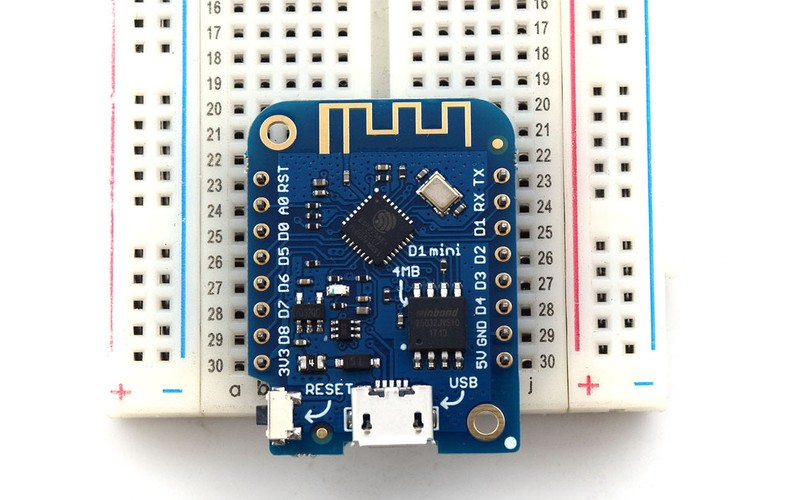Regulator: (282, 150, 487, 383)
